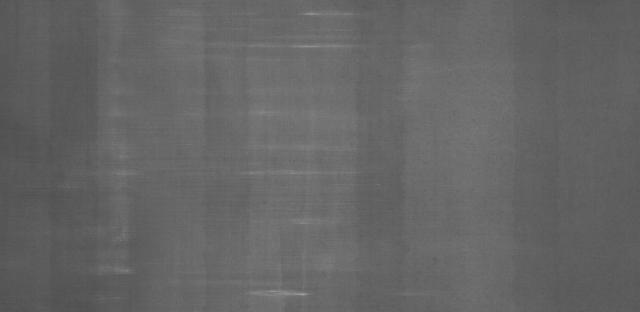waist_folding: (63, 4, 383, 306)
